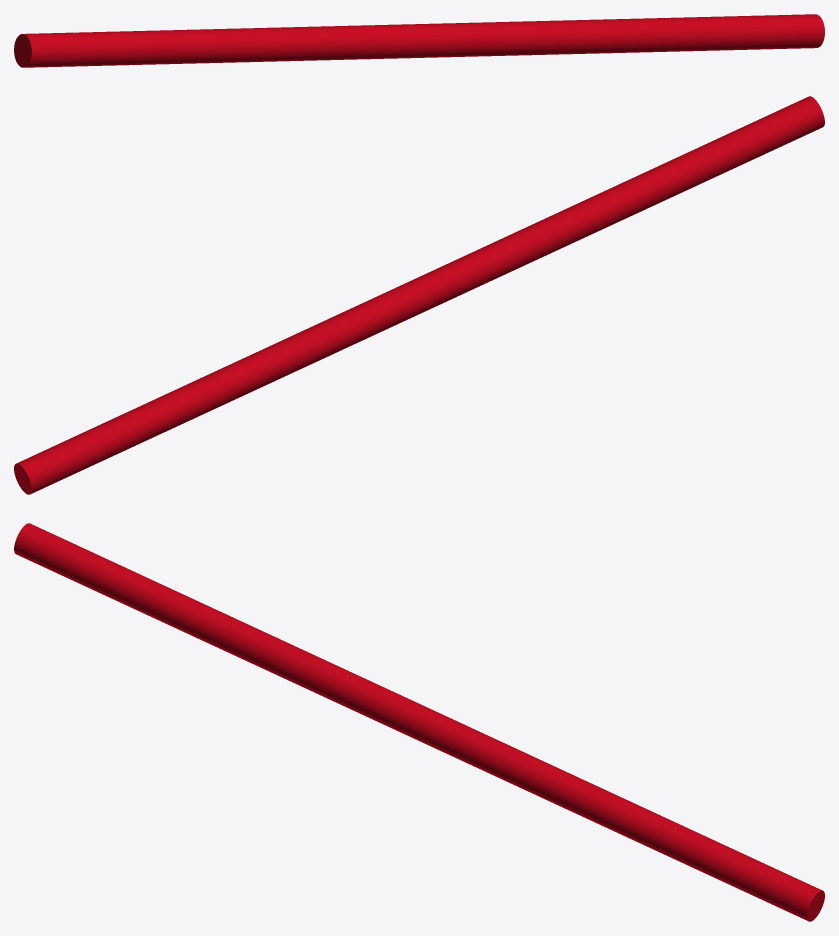
3 renders of one model, top to bottom at view 1: azimuth 30°, elevation 25°; view 2: azimuth 210°, elevation 25°; view 3: azimuth 330°, elevation 25°, orthographic.
Parts seen in each view (by area): view 1: Cylinder15; view 2: Cylinder15; view 3: Cylinder15.
Boxes of the visible parts, x1=… form: Cylinder15: x1=14, y1=14, x2=824, y2=67; Cylinder15: x1=14, y1=96, x2=824, y2=494; Cylinder15: x1=14, y1=523, x2=824, y2=921.
Size of the model in its own units: 21.09 by 0.7767 by 5.15.
